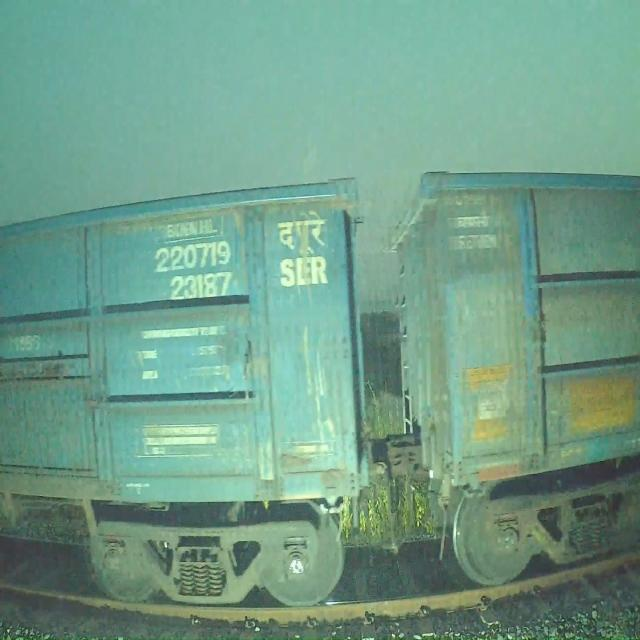WAgon-uic: (0, 169, 384, 612), (380, 159, 640, 591)
uic: (146, 233, 247, 303)
